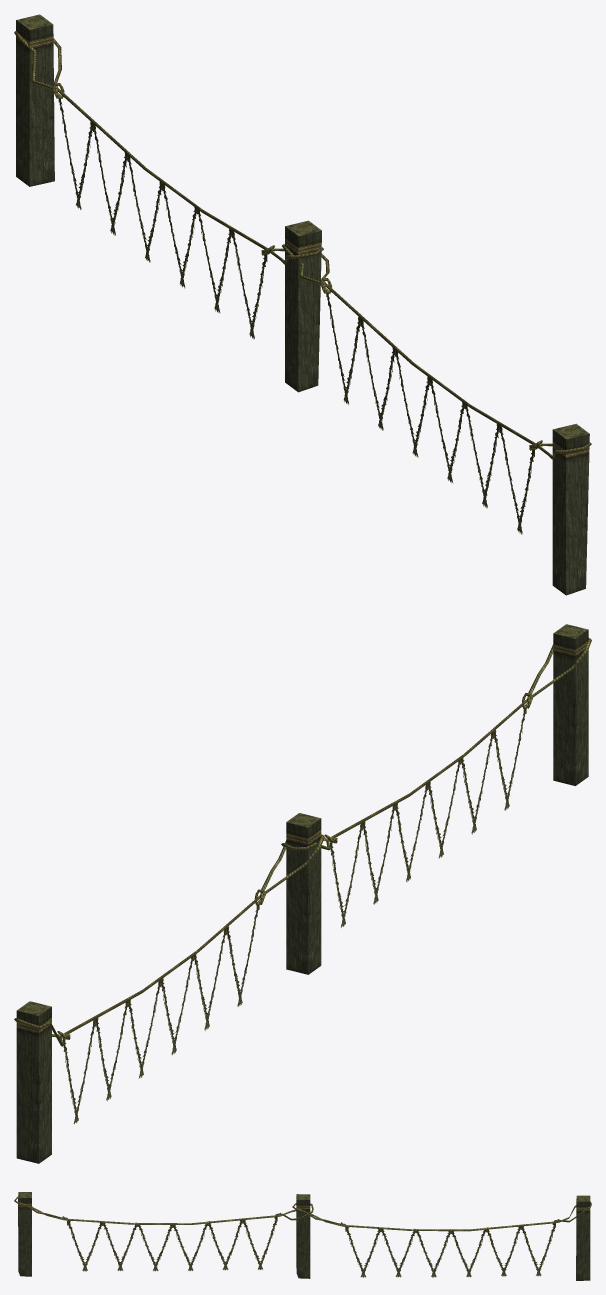
Rendered from environment_Building_jianmushenshu_001_f.FBX.
3 views of the same model, one above another, from view 1: azimuth 30°, elevation 25°; view 2: azimuth 150°, elevation 25°; view 3: azimuth 270°, elevation 25° (orthographic). The views are drawn at different scales.
Visible parts, largest first — view 1: environment_Building_jianmushenshu_001_f1, environment_Building_jianmushenshu_001_f2; view 2: environment_Building_jianmushenshu_001_f1, environment_Building_jianmushenshu_001_f2; view 3: environment_Building_jianmushenshu_001_f1, environment_Building_jianmushenshu_001_f2.
Part boxes in pixels (<box>): environment_Building_jianmushenshu_001_f1: <box>14,14,323,392</box>; environment_Building_jianmushenshu_001_f2: <box>282,244,591,595</box>; environment_Building_jianmushenshu_001_f1: <box>14,813,324,1163</box>; environment_Building_jianmushenshu_001_f2: <box>281,624,591,927</box>; environment_Building_jianmushenshu_001_f1: <box>292,1194,591,1280</box>; environment_Building_jianmushenshu_001_f2: <box>14,1192,313,1276</box>.
Bounding box in the file's own units: 123 × 2226 × 339.
